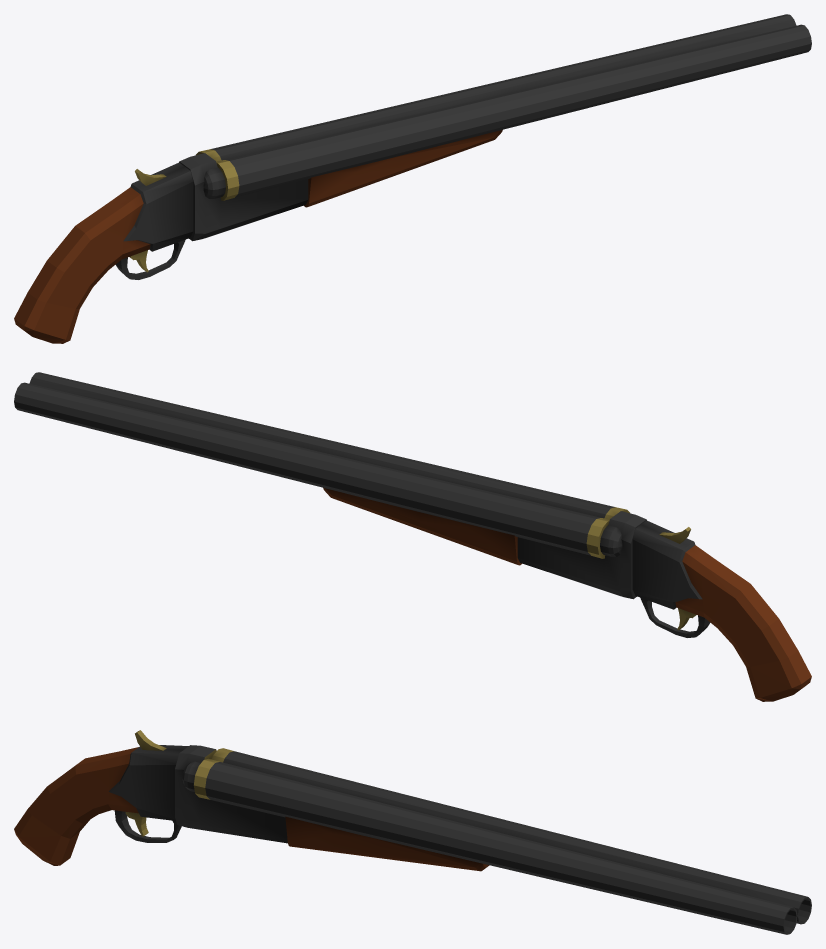
Rendered from v-hunter-shotgun-complete.glb.
3 views of the same model, one above another, from view 1: azimuth 30°, elevation 25°; view 2: azimuth 150°, elevation 25°; view 3: azimuth 330°, elevation 25° (orthographic).
Parts seen in each view (by area): view 1: body (×3); view 2: body (×3); view 3: body (×3).
Part boxes in pixels (bbox=[...]): body (×3): bbox=[14, 14, 811, 343]; body (×3): bbox=[14, 372, 811, 701]; body (×3): bbox=[14, 730, 811, 934].
Size of the model in its own units: 1.05 by 0.1944 by 0.0805.
